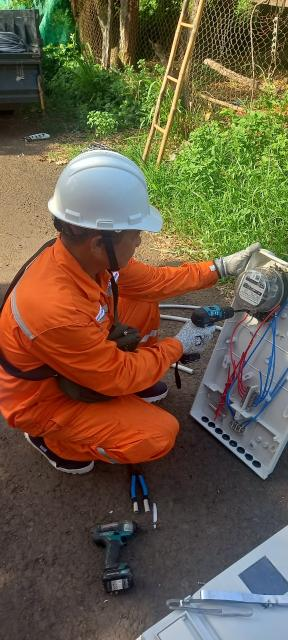gloves: (217, 237, 268, 286), (174, 313, 219, 354)
helmet: (38, 142, 172, 238)
shoes: (15, 426, 108, 486)
